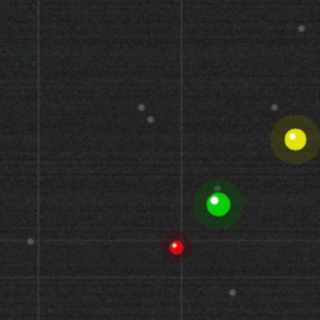green_normal: (204, 190, 232, 218)
red_fault: (167, 238, 185, 256)
yellow_warning: (282, 126, 308, 152)
